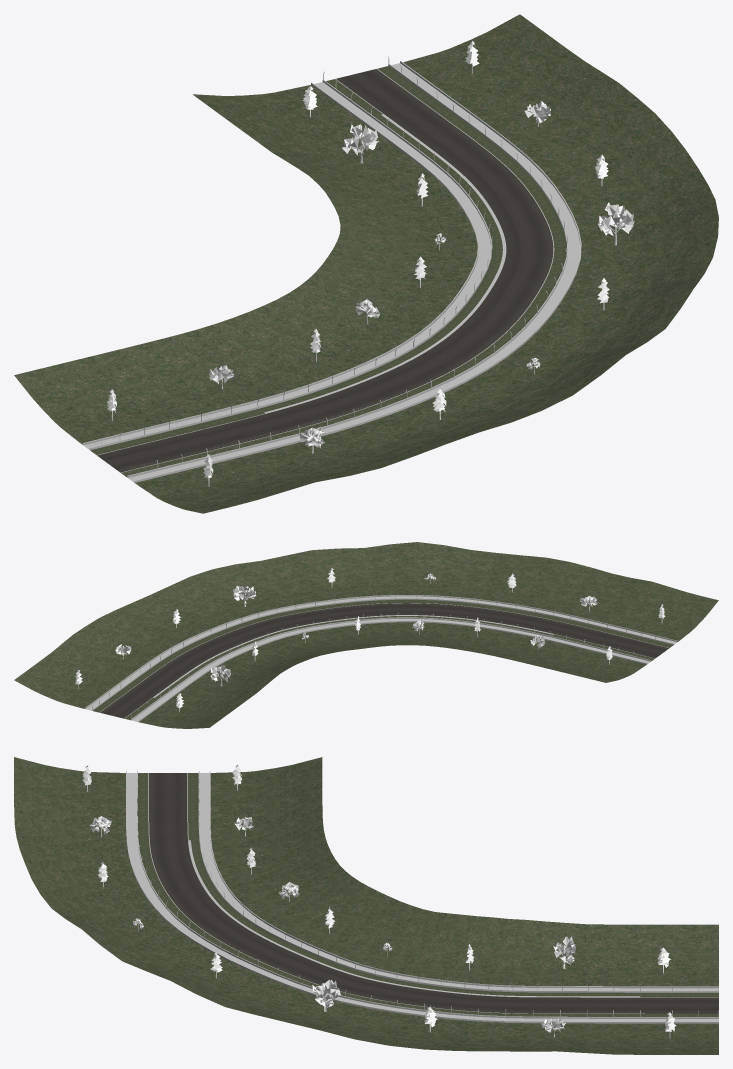
3 renders of one model, top to bottom at view 1: azimuth 30°, elevation 25°; view 2: azimuth 150°, elevation 25°; view 3: azimuth 270°, elevation 25°, orthographic. The views are drawn at different scales.
Visible parts, largest first — view 1: Grass, Road, Track, Trees; view 2: Grass, Road, Track, Trees; view 3: Grass, Road, Track, Trees.
Boxes of the visible parts, left/top/right/bottom form: Grass: left=14, top=14, right=718, bottom=513; Road: left=97, top=69, right=553, bottom=472; Track: left=82, top=56, right=581, bottom=482; Trees: left=106, top=41, right=634, bottom=486; Grass: left=14, top=542, right=718, bottom=728; Road: left=100, top=603, right=669, bottom=718; Track: left=85, top=594, right=677, bottom=721; Trees: left=75, top=568, right=665, bottom=711; Grass: left=14, top=757, right=718, bottom=1054; Road: left=149, top=773, right=718, bottom=1013; Track: left=126, top=771, right=718, bottom=1023; Trees: left=83, top=765, right=676, bottom=1038.
Size of what is drawn, in the model's own units: 32000 by 1717 by 32002.
